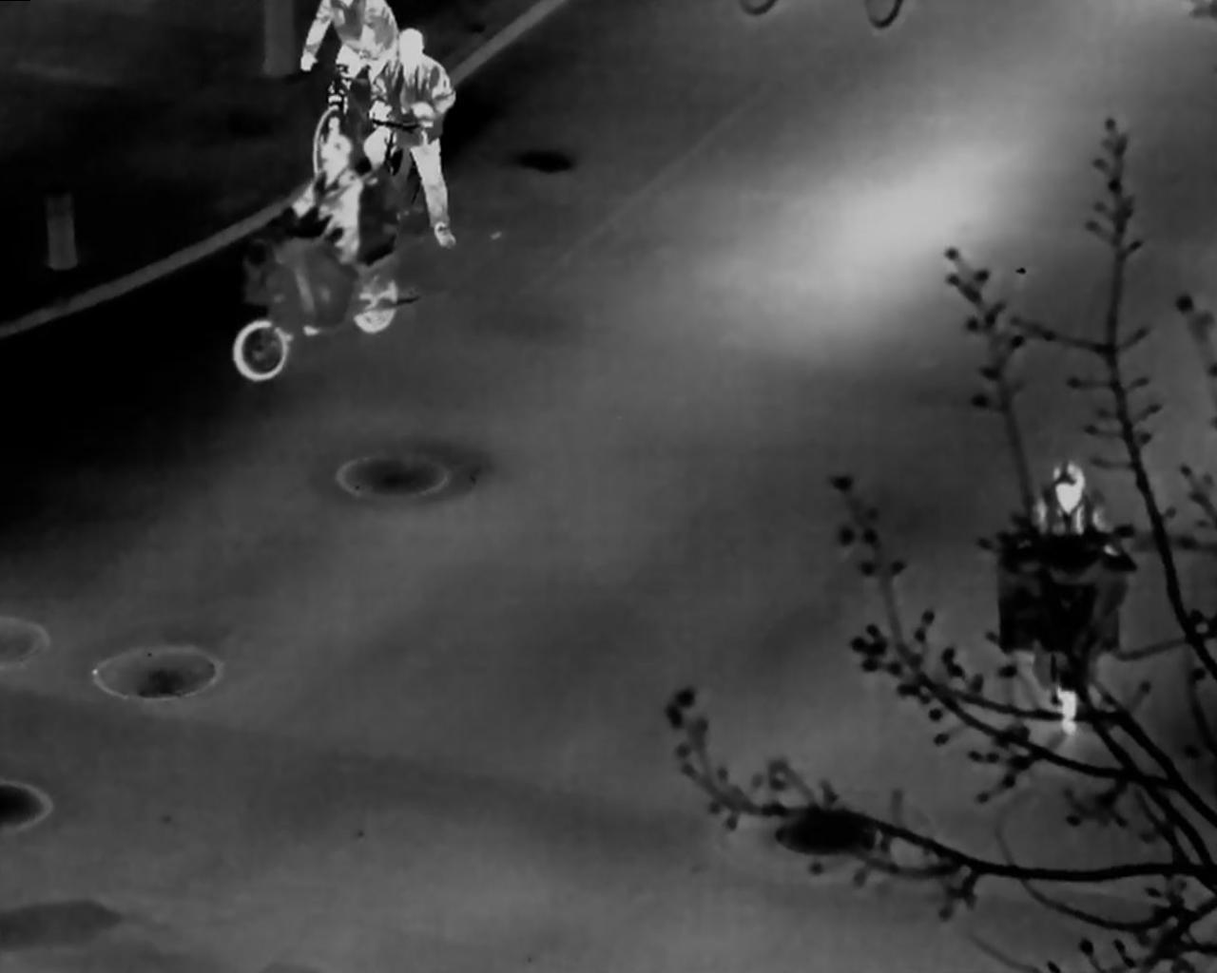person: (1016, 457, 1129, 673), (366, 26, 463, 251), (286, 123, 361, 275)
